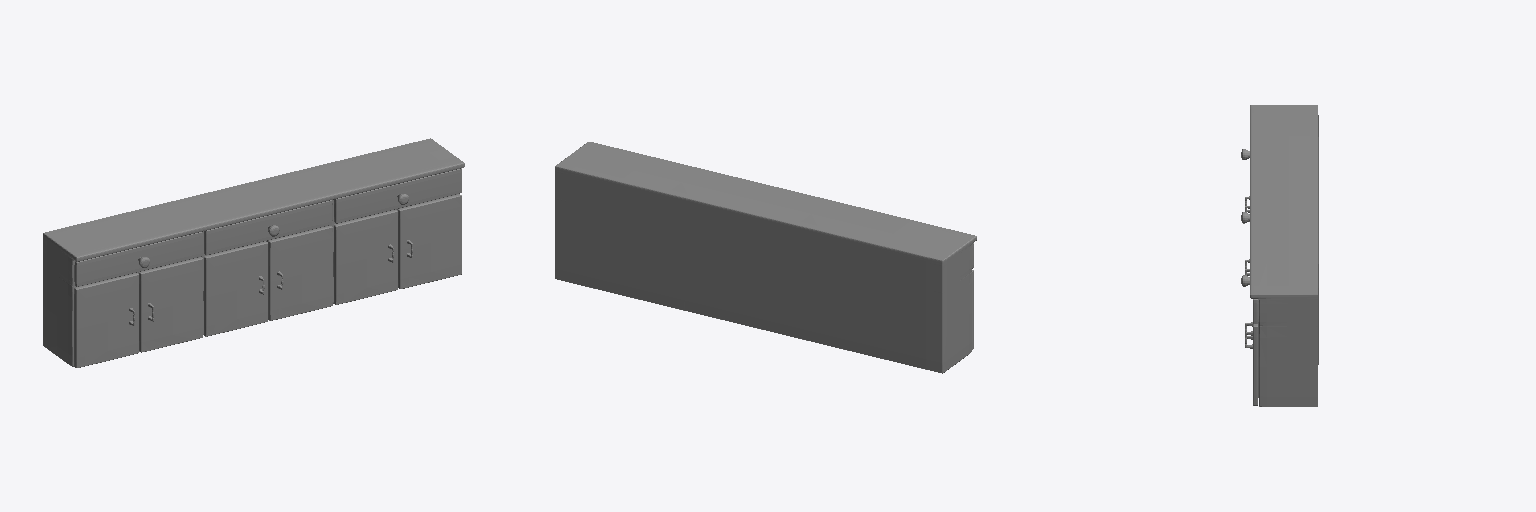
File: gabinete3.obj
The picture shows the model from 3 angles: view 1: azimuth 30°, elevation 25°; view 2: azimuth 150°, elevation 25°; view 3: azimuth 270°, elevation 25°; orthographic projection.
Visible parts, largest first — view 1: Base_Cube, 2_Right_Door_Cube_017, 1_Left_Door_Cube_004, 3_Left_Door_Cube_008, 2_Left_Door_Cube_006, 1_Right_Door_Cube_002, 3_Right_Door_Cube_016, 1_Banister_Cube_010, 2_Banister_Cube_001, 3_Banister_Cube_007; view 2: Base_Cube; view 3: Base_Cube.
Part boxes in pixels (bbox=[...]): Base_Cube: bbox=[43, 138, 464, 366]; 2_Right_Door_Cube_017: bbox=[268, 226, 332, 320]; 1_Left_Door_Cube_004: bbox=[74, 273, 138, 367]; 3_Left_Door_Cube_008: bbox=[333, 210, 397, 304]; 2_Left_Door_Cube_006: bbox=[203, 241, 267, 336]; 1_Right_Door_Cube_002: bbox=[139, 257, 202, 352]; 3_Right_Door_Cube_016: bbox=[398, 194, 461, 288]; 1_Banister_Cube_010: bbox=[74, 232, 202, 286]; 2_Banister_Cube_001: bbox=[204, 200, 332, 254]; 3_Banister_Cube_007: bbox=[334, 168, 461, 223]; Base_Cube: bbox=[555, 142, 976, 373]; Base_Cube: bbox=[1250, 105, 1318, 406].
Bounding box in the file's own units: 15 × 4.2 × 2.58.